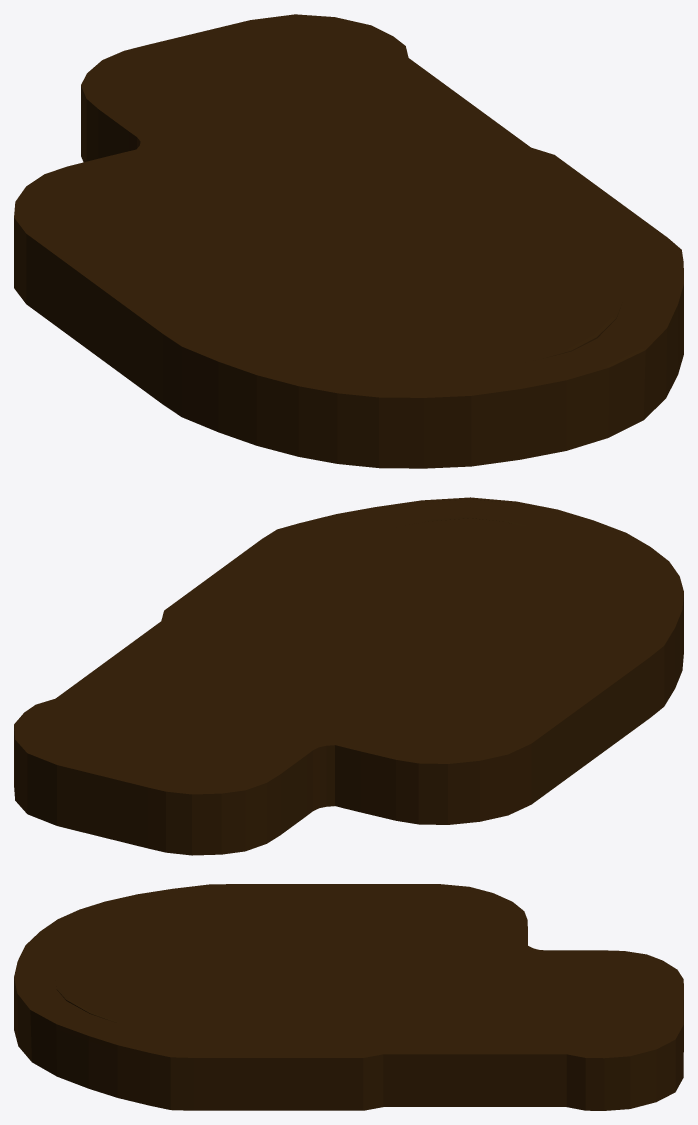
Rendered from barandal quenosevea.fbx.
The picture shows the model from 3 angles, top to bottom: view 1: azimuth 30°, elevation 25°; view 2: azimuth 150°, elevation 25°; view 3: azimuth 270°, elevation 25°; orthographic projection. The views are drawn at different scales.
Parts seen in each view (by area): view 1: barandal quenosevea; view 2: barandal quenosevea; view 3: barandal quenosevea.
Boxes of the visible parts, x1,y1,x2,y2 form: barandal quenosevea: (14, 14, 683, 468); barandal quenosevea: (14, 497, 683, 855); barandal quenosevea: (14, 884, 683, 1110).
Size of the model in its own units: 9903 by 1435 by 16099.
